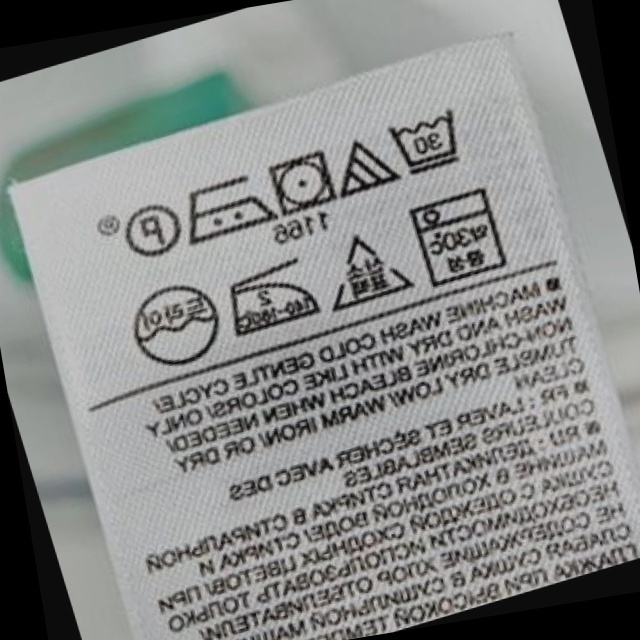30C: (401, 178, 520, 294), (380, 97, 473, 187)
dry_clean: (114, 273, 234, 379)
dry_clean_any_solvent_except_trichloroethylene: (119, 196, 188, 267)
iron_medium: (212, 250, 328, 344), (170, 162, 284, 254)
non_chlorine_bleach: (312, 224, 419, 320), (322, 132, 402, 206)
tumble_dry_low: (260, 146, 342, 219)
